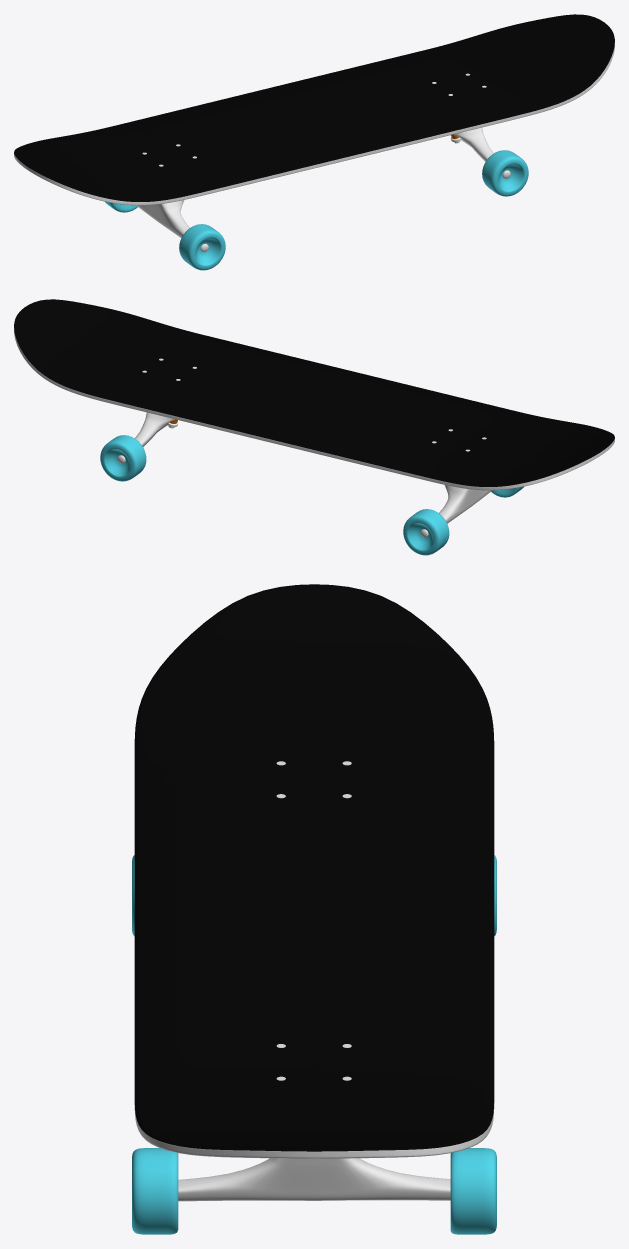
File: Skateboard 1.fbx
3 renders of one model, top to bottom at view 1: azimuth 30°, elevation 25°; view 2: azimuth 150°, elevation 25°; view 3: azimuth 270°, elevation 25°, orthographic. The views are drawn at different scales.
Parts seen in each view (by area): view 1: Cube.006, Cylinder.023, Cylinder.018, Cube.002, Cube.018; view 2: Cube.006, Cylinder.020, Cylinder.021, Cube.002, Cube.018; view 3: Cube.006, Cube.018, Cylinder.020, Cylinder.023.
Boxes of the visible parts, x1=… form: Cube.006: x1=14, y1=14, x2=614, y2=205; Cylinder.023: x1=482, y1=150, x2=528, y2=196; Cylinder.018: x1=179, y1=224, x2=225, y2=270; Cube.002: x1=136, y1=200, x2=189, y2=238; Cube.018: x1=453, y1=127, x2=493, y2=161; Cube.006: x1=14, y1=299, x2=614, y2=490; Cylinder.020: x1=100, y1=435, x2=146, y2=481; Cylinder.021: x1=403, y1=509, x2=449, y2=555; Cube.002: x1=439, y1=485, x2=492, y2=523; Cube.018: x1=134, y1=412, x2=175, y2=446; Cube.006: x1=134, y1=584, x2=494, y2=1158; Cube.018: x1=178, y1=1158, x2=450, y2=1201; Cylinder.020: x1=450, y1=1148, x2=496, y2=1234; Cylinder.023: x1=132, y1=1148, x2=178, y2=1234.
Bounding box in the file's own units: 20.87 × 13.6 × 76.63.
